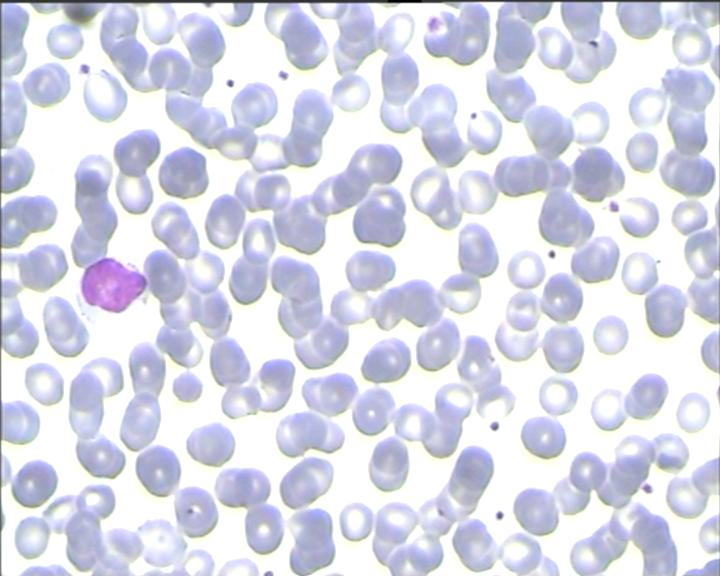lymp: (68, 258, 150, 328)
